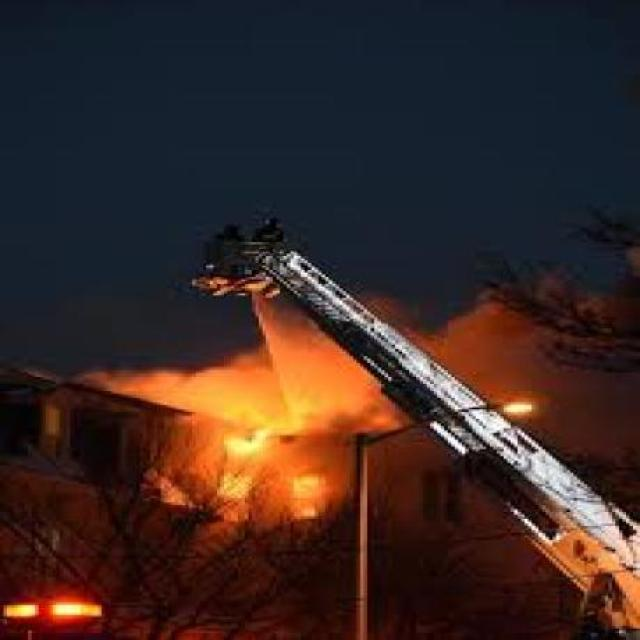Fire: (206, 423, 322, 510)
Smoke: (470, 307, 640, 442), (120, 326, 362, 420)
